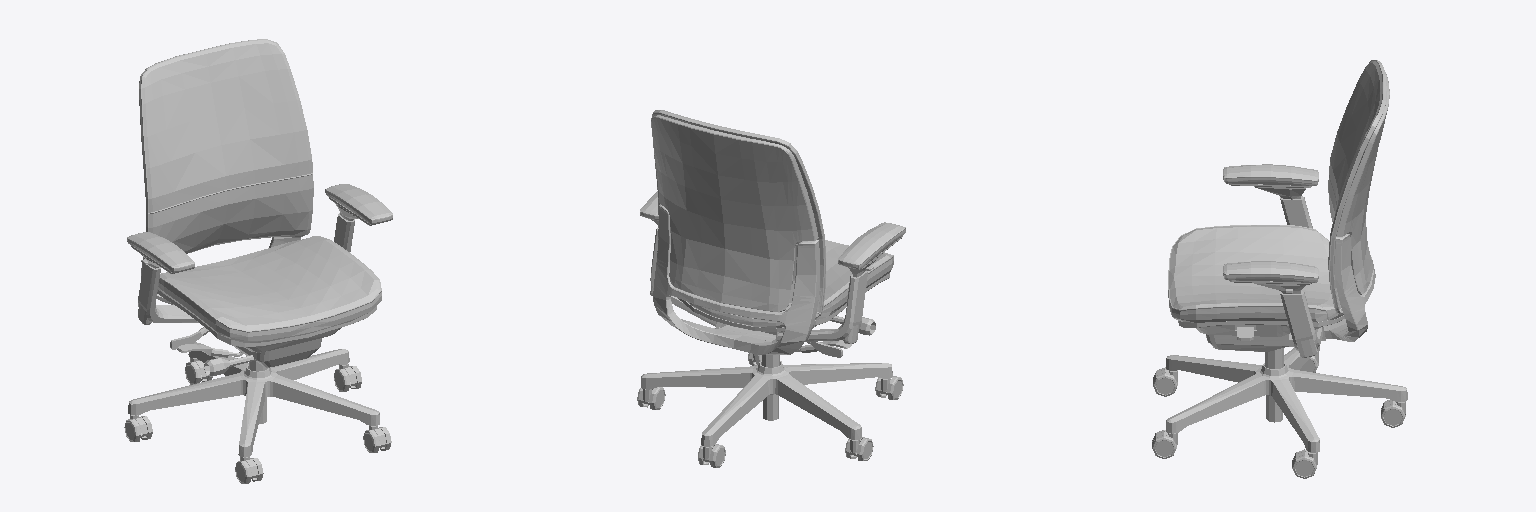
File: office-chair.obj
3 views of the same model, side by side, from view 1: azimuth 30°, elevation 25°; view 2: azimuth 150°, elevation 25°; view 3: azimuth 270°, elevation 25° (orthographic).
Visible parts, largest first — view 1: Amia_BackS, Amia_SeatS, Amia_Base, Amia_ArmCa, Amia_Frame_Black, Amia_Arms, Amia_Frame, Amia_Cast2, Amia_Cast1, Amia_Cast0, Amia_Caste; view 2: Amia_Frame, Amia_Base, Amia_SeatS, Amia_BackS, Amia_ArmCa, Amia_Arms, Amia_Frame_Black, Amia_Base_Black, Amia_Caste, Amia_Cast0, Amia_Cast3; view 3: Amia_SeatS, Amia_Base, Amia_Frame, Amia_BackS, Amia_ArmCa, Amia_Arms, Amia_Frame_Black, Amia_Arms2, Amia_Frame2, Amia_Base_Black, Amia_Cast2, Amia_Cast1 (+2 smaller).
Boxes of the visible parts, box(x1,y1,x2,y2) form: Amia_BackS: box(139, 39, 313, 258); Amia_SeatS: box(158, 236, 381, 342); Amia_Base: box(128, 342, 379, 457); Amia_ArmCa: box(127, 184, 392, 273); Amia_Frame_Black: box(170, 327, 321, 376); Amia_Arms: box(138, 213, 354, 324); Amia_Frame: box(141, 237, 376, 361); Amia_Cast2: box(334, 364, 361, 391); Amia_Cast1: box(363, 426, 391, 452); Amia_Cast0: box(235, 457, 263, 483); Amia_Caste: box(124, 415, 152, 441); Amia_Frame: box(651, 115, 889, 354); Amia_Base: box(641, 354, 892, 446); Amia_SeatS: box(688, 240, 893, 327); Amia_BackS: box(651, 110, 825, 318); Amia_ArmCa: box(640, 191, 905, 269); Amia_Arms: box(650, 228, 867, 343); Amia_Frame_Black: box(761, 316, 875, 357); Amia_Base_Black: box(762, 355, 779, 420); Amia_Caste: box(845, 437, 873, 460); Amia_Cast0: box(875, 376, 903, 399); Amia_Cast3: box(698, 444, 725, 467); Amia_SeatS: box(1168, 225, 1343, 322); Amia_Base: box(1166, 346, 1407, 452); Amia_Frame: box(1178, 72, 1389, 346); Amia_BackS: box(1328, 60, 1386, 314); Amia_ArmCa: box(1223, 164, 1318, 282); Amia_Arms: box(1280, 196, 1322, 355); Amia_Frame_Black: box(1206, 327, 1293, 351); Amia_Arms2: box(1229, 184, 1311, 293); Amia_Frame2: box(1196, 320, 1327, 336); Amia_Base_Black: box(1265, 348, 1283, 422); Amia_Cast2: box(1292, 449, 1317, 478); Amia_Cast1: box(1152, 430, 1177, 458).
Bounding box in the file's own units: 0.5304 × 0.7564 × 0.52.